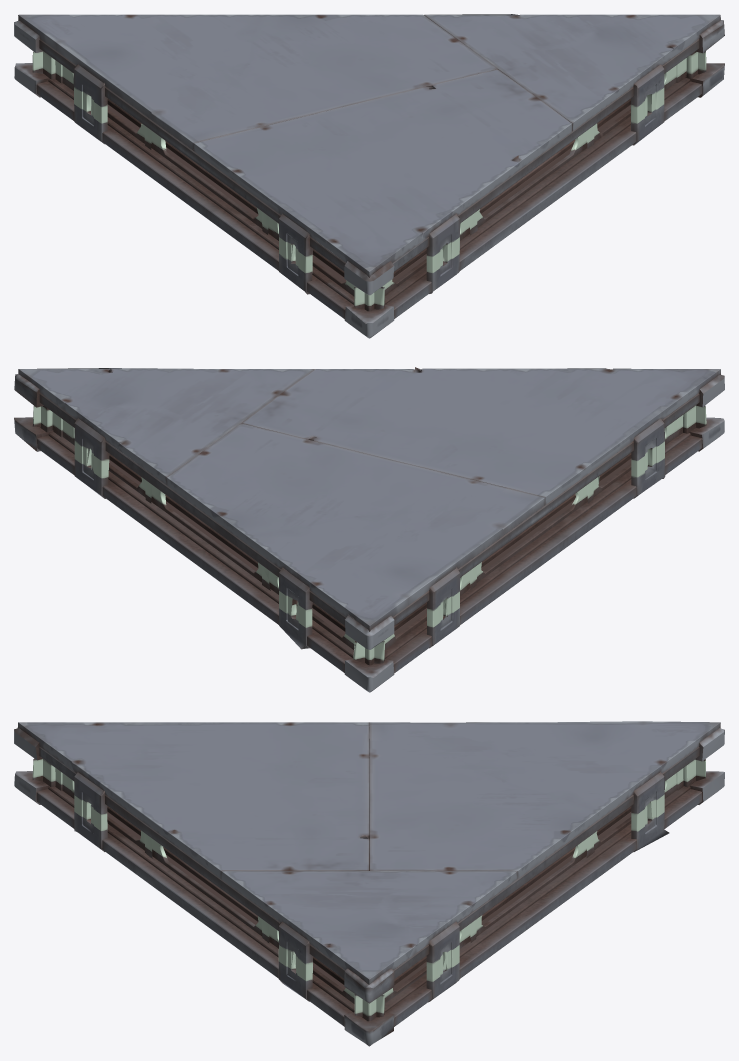
File: BP_TriCeiling_Metal_C.glb
The picture shows the model from 3 angles, top to bottom: view 1: azimuth 30°, elevation 25°; view 2: azimuth 150°, elevation 25°; view 3: azimuth 270°, elevation 25°; orthographic projection.
Visible parts, largest first — view 1: SM_Metal_CeilingTriangle; view 2: SM_Metal_CeilingTriangle; view 3: SM_Metal_CeilingTriangle.
Boxes of the visible parts, x1=… form: SM_Metal_CeilingTriangle: x1=14, y1=14, x2=724, y2=338; SM_Metal_CeilingTriangle: x1=14, y1=367, x2=724, y2=692; SM_Metal_CeilingTriangle: x1=14, y1=721, x2=724, y2=1046.
Size of the model in its own units: 2.64 by 0.3378 by 3.03.
Materials: 1 (1 with a texture image).
